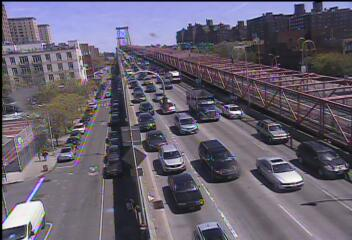neg: (251, 48, 265, 67)
pos: (40, 148, 52, 164)
